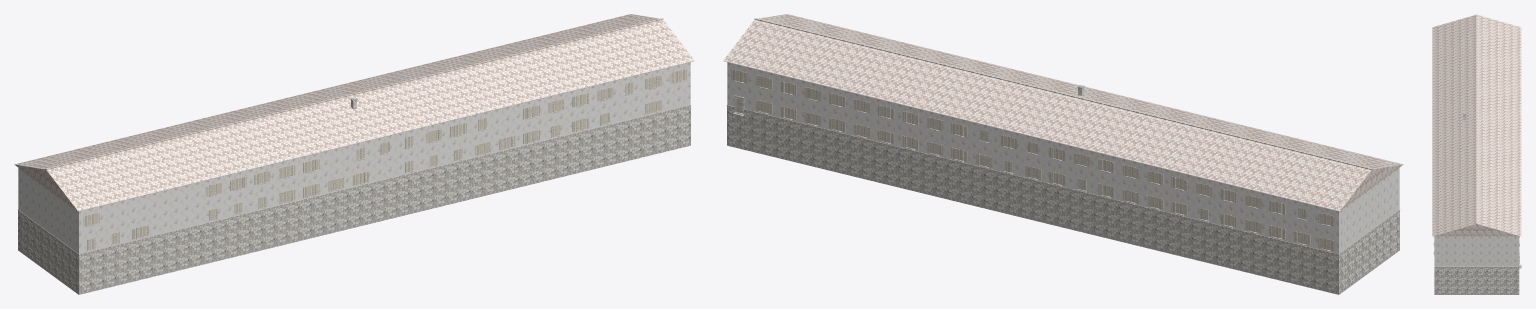
3 renders of one model, left to right at view 1: azimuth 30°, elevation 25°; view 2: azimuth 150°, elevation 25°; view 3: azimuth 270°, elevation 25°, orthographic. The views are drawn at different scales.
Visible parts, largest first — view 1: b962648342; view 2: b962648342; view 3: b962648342.
Boxes of the visible parts, x1,y1,x2,y2 form: b962648342: (14,14,694,294); b962648342: (723,14,1403,294); b962648342: (1432,14,1521,294).
Size of the model in its own units: 80.8 by 13.51 by 14.6.
19 materials, 19 textured.
